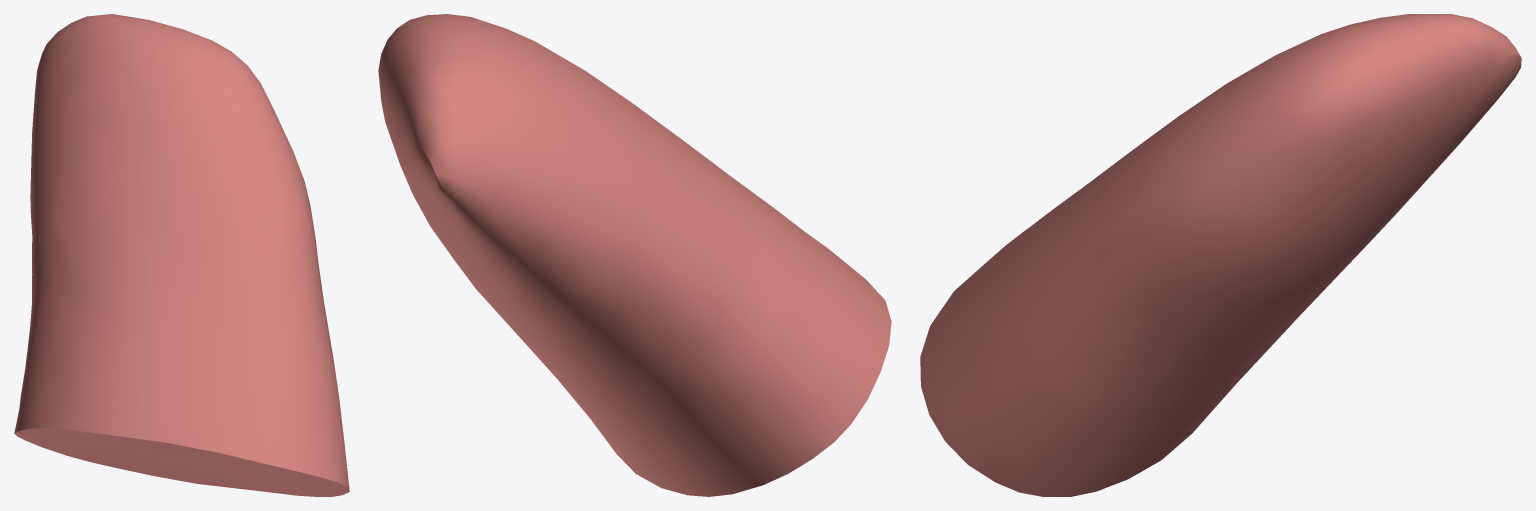
File: fma299910_mm3939.glb
3 views of the same model, side by side, from view 1: azimuth 30°, elevation 25°; view 2: azimuth 150°, elevation 25°; view 3: azimuth 270°, elevation 25° (orthographic). The views are drawn at different scales.
Visible parts, largest first — view 1: FMA299910_MM3939; view 2: FMA299910_MM3939; view 3: FMA299910_MM3939.
Part boxes in pixels (x1,y1,x2,y2): FMA299910_MM3939: [14, 14, 349, 496]; FMA299910_MM3939: [378, 14, 891, 496]; FMA299910_MM3939: [920, 14, 1521, 496].
Size of the model in its own units: 0.0213 by 0.0259 by 0.0305.
